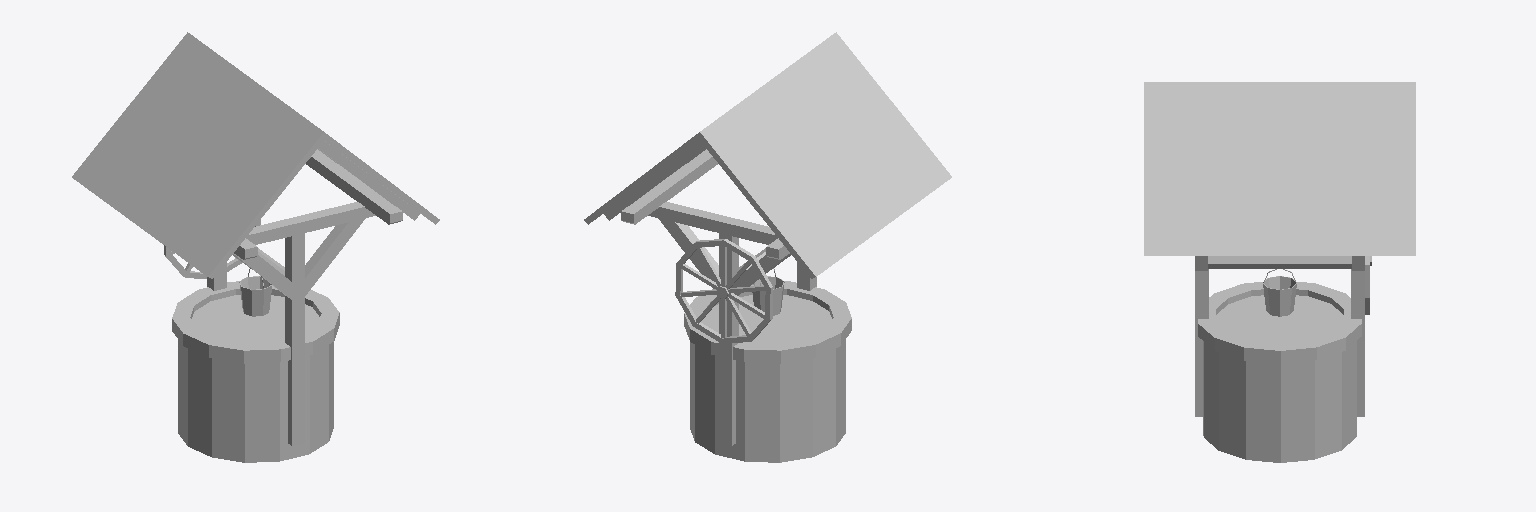
File: waterwell.obj
3 renders of one model, left to right at view 1: azimuth 30°, elevation 25°; view 2: azimuth 150°, elevation 25°; view 3: azimuth 270°, elevation 25°, orthographic.
Parts seen in each view (by area): view 1: WaterWell; view 2: WaterWell; view 3: WaterWell.
Part boxes in pixels (bbox=[...]): WaterWell: bbox=[72, 32, 439, 462]; WaterWell: bbox=[584, 32, 951, 462]; WaterWell: bbox=[1144, 82, 1415, 462].
Size of the model in its own units: 2.94 by 4.19 by 2.98.